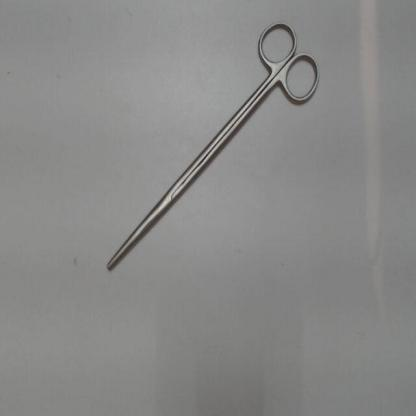9 Metzenbaum Scissors: (99, 16, 326, 282)
